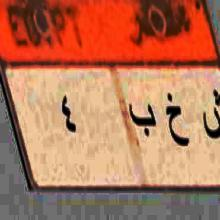4: (60, 90, 77, 143)
baa: (129, 98, 156, 146)
khaa: (163, 89, 189, 156)
